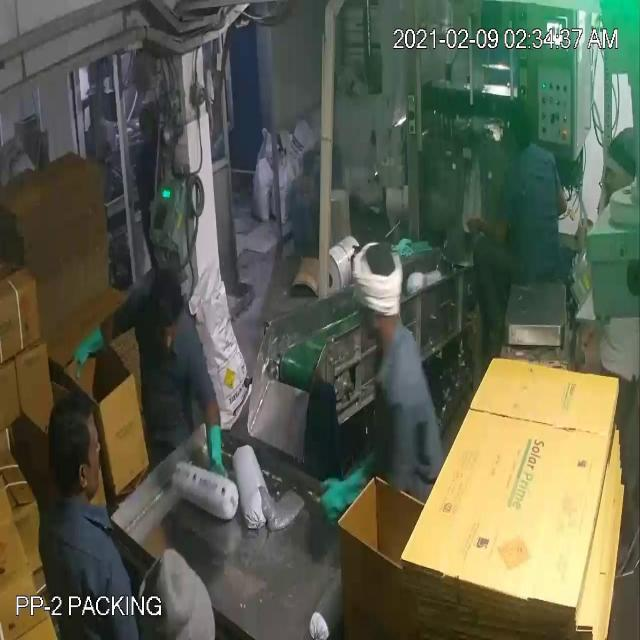Gloves: (34, 46, 491, 487)
